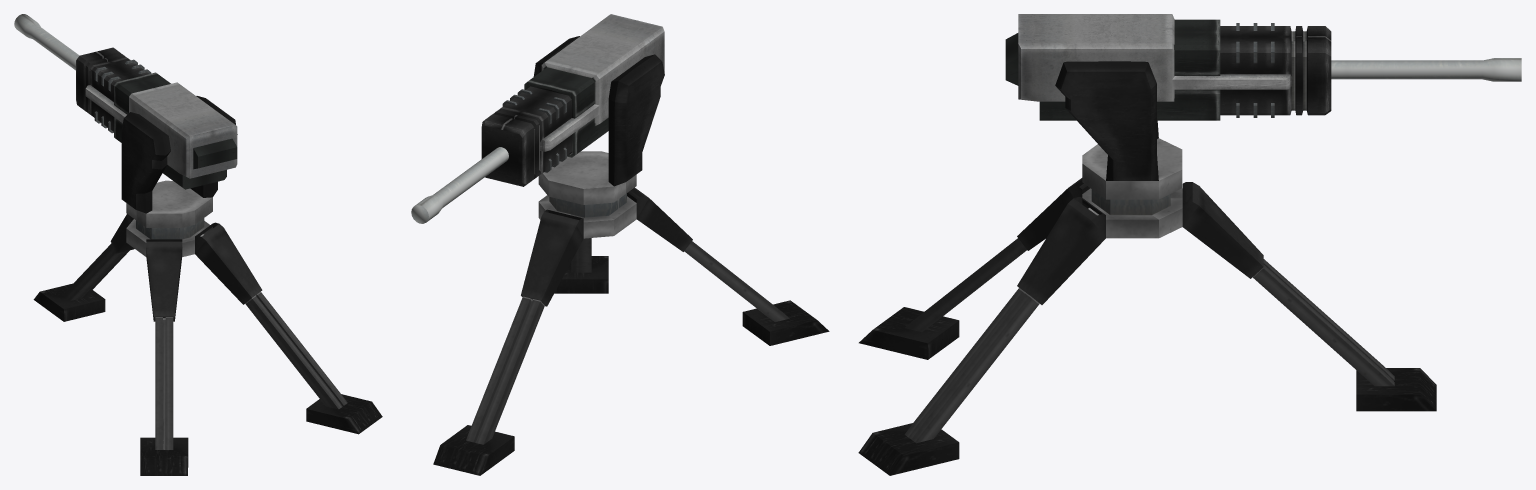
File: Turret.fbx
The picture shows the model from 3 angles, left to right: view 1: azimuth 30°, elevation 25°; view 2: azimuth 150°, elevation 25°; view 3: azimuth 270°, elevation 25°; orthographic projection. The views are drawn at different scales.
Visible parts, largest first — view 1: Turret, TurretBase; view 2: Turret, TurretBase; view 3: Turret, TurretBase.
Part boxes in pixels (bbox=[...]): Turret: bbox=[14, 14, 237, 232]; TurretBase: bbox=[33, 214, 382, 475]; Turret: bbox=[411, 14, 664, 223]; TurretBase: bbox=[433, 187, 829, 475]; Turret: bbox=[1005, 14, 1521, 205]; TurretBase: bbox=[858, 178, 1436, 475].
Size of the model in its own units: 1.25 by 1.38 by 2.25.
